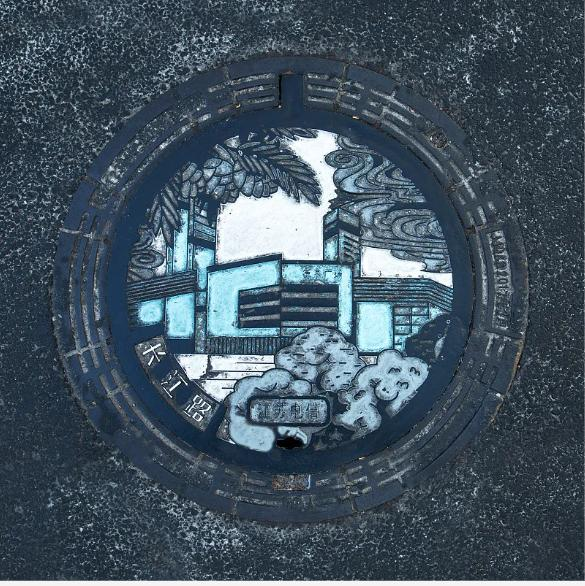wellcover: (60, 85, 519, 512)
